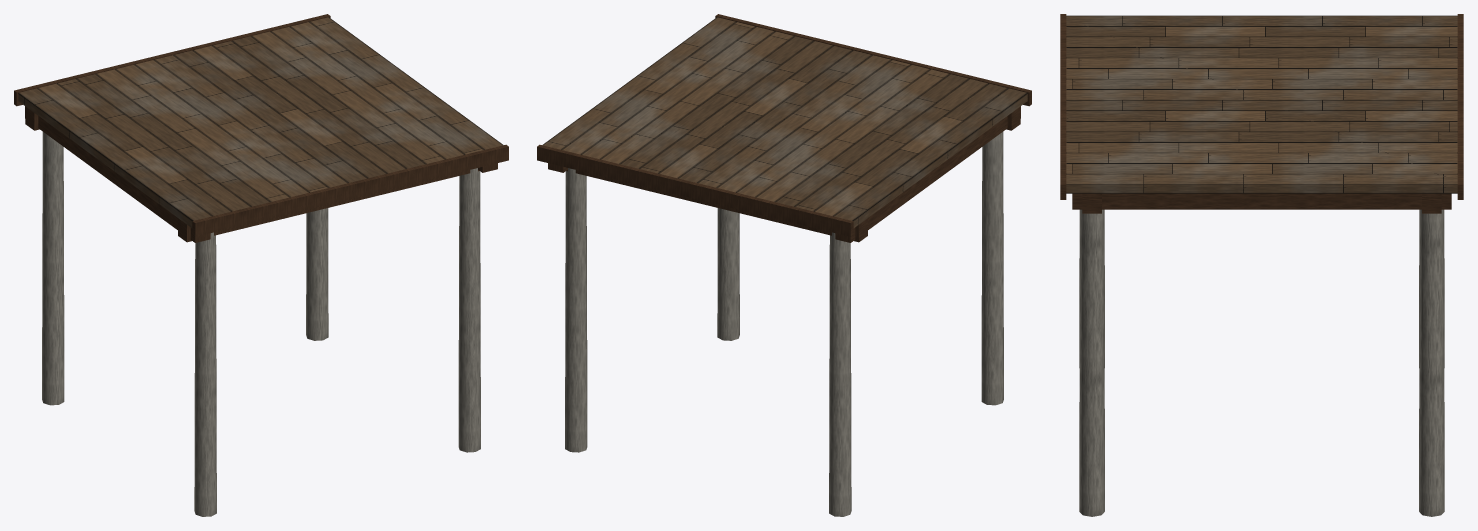
File: SM_Art_Pier_400x400x100_P375.gltf
The picture shows the model from 3 angles, left to right: view 1: azimuth 30°, elevation 25°; view 2: azimuth 150°, elevation 25°; view 3: azimuth 270°, elevation 25°; orthographic projection. The views are drawn at different scales.
Parts seen in each view (by area): view 1: SM_Art_Pier_400x400x100_P375; view 2: SM_Art_Pier_400x400x100_P375; view 3: SM_Art_Pier_400x400x100_P375.
Boxes of the visible parts, <box> form: SM_Art_Pier_400x400x100_P375: <box>14,14,508,516</box>; SM_Art_Pier_400x400x100_P375: <box>537,14,1031,516</box>; SM_Art_Pier_400x400x100_P375: <box>1060,14,1463,516</box>.
Size of the model in its own units: 4.04 by 3.76 by 4.04.
3 materials, 3 textured.
